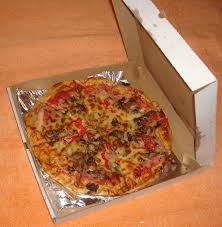pizza: (25, 83, 171, 188)
